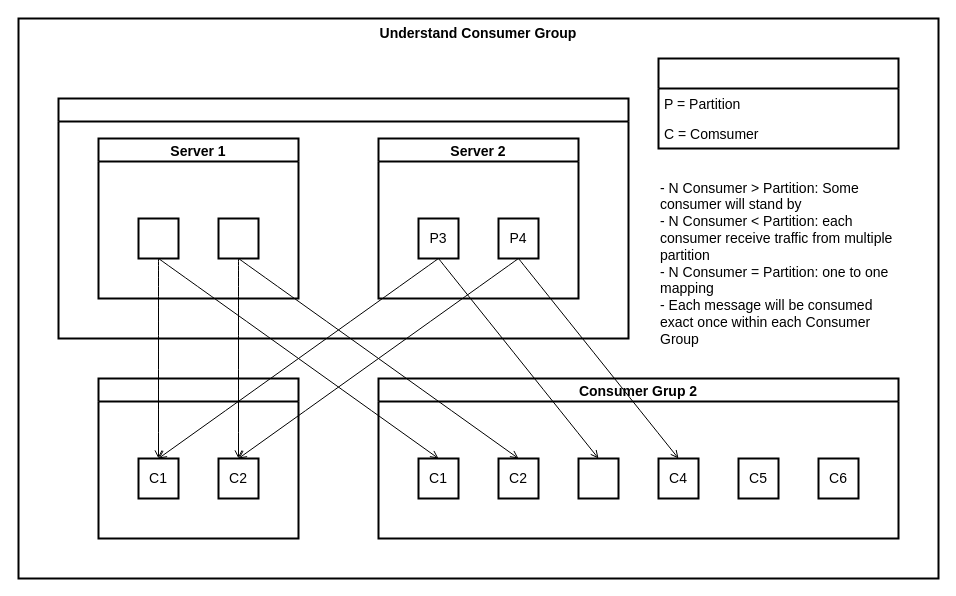
The diagram is 956 pixels wide and 596 high, and some of its shapes have lost their labels. Here are the shapes that lost their labels. From the top down, the box of each, then its label:
(657, 57, 899, 149): Label
(137, 217, 179, 259): P1
(217, 217, 259, 259): P2
(57, 97, 629, 339): Kafka Cluster
(97, 377, 299, 539): Consumer Group 1
(577, 457, 619, 499): C3
